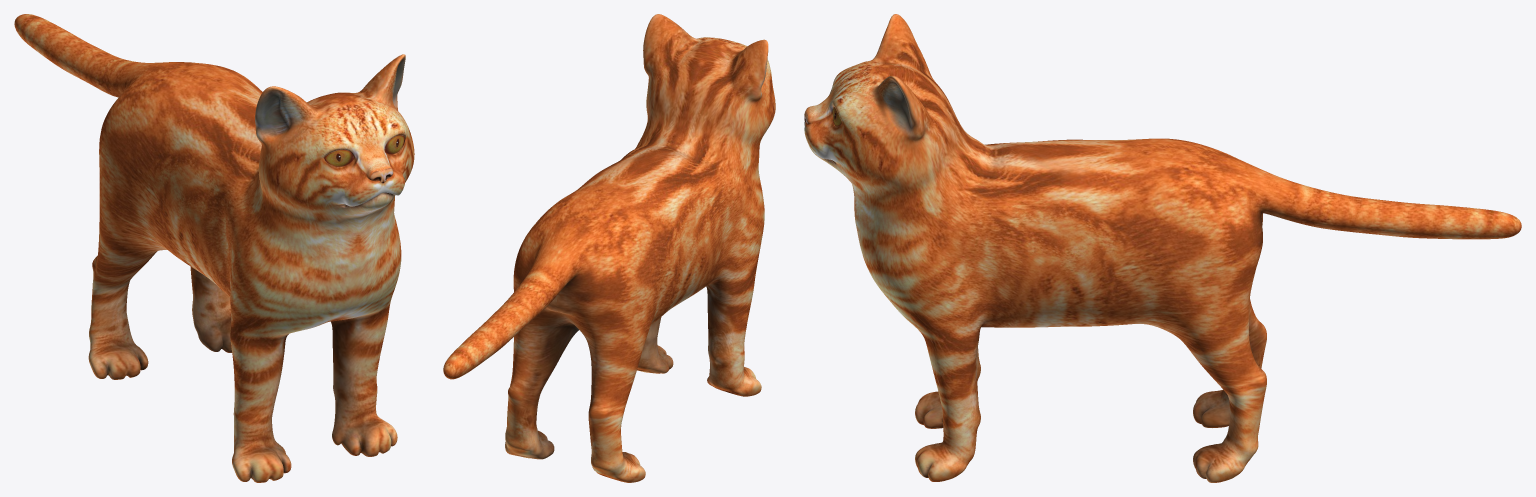
Rendered from Cat.glb.
The picture shows the model from 3 angles, left to right: view 1: azimuth 30°, elevation 25°; view 2: azimuth 150°, elevation 25°; view 3: azimuth 270°, elevation 25°; orthographic projection. The views are drawn at different scales.
Visible parts, largest first — view 1: 12221_Cat_v1_l3; view 2: 12221_Cat_v1_l3; view 3: 12221_Cat_v1_l3.
Boxes of the visible parts, x1,y1,x2,y2 form: 12221_Cat_v1_l3: (14,14,414,482); 12221_Cat_v1_l3: (443,14,775,482); 12221_Cat_v1_l3: (804,14,1521,482).
Size of the model in its own units: 1.57 by 3.76 by 6.09.
1 material, 1 textured.
